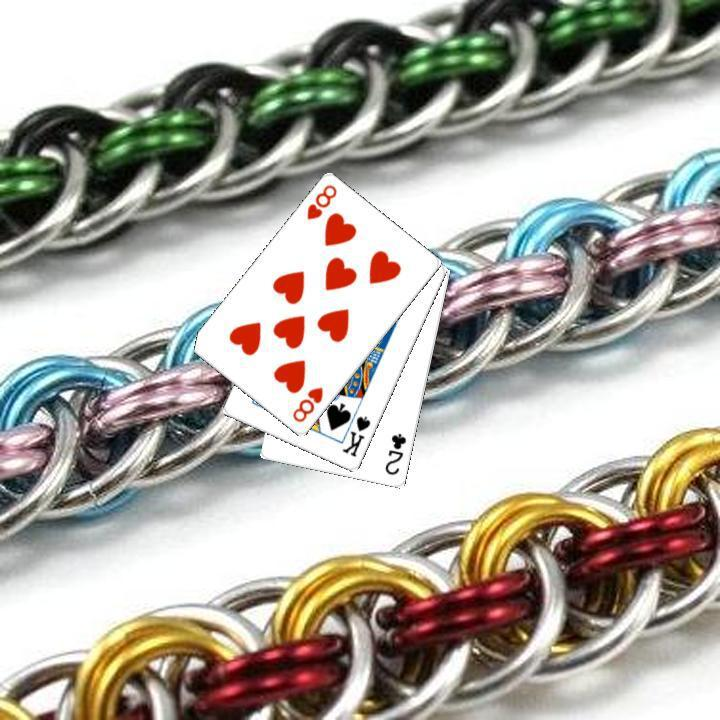2: (381, 429, 408, 477)
8: (288, 383, 325, 425), (302, 181, 339, 222)
K: (338, 412, 373, 459)
